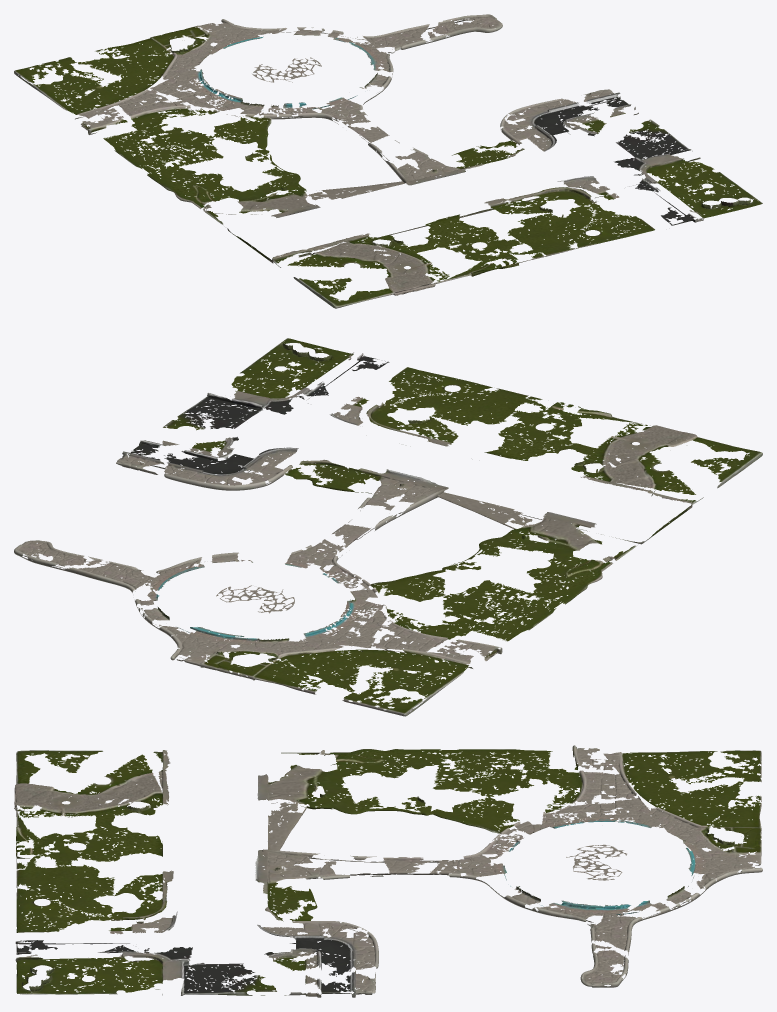
Rendered from plaza-day-ground.glb.
3 views of the same model, one above another, from view 1: azimuth 30°, elevation 25°; view 2: azimuth 150°, elevation 25°; view 3: azimuth 270°, elevation 25° (orthographic). The views are drawn at different scales.
Visible parts, largest first — view 1: tripo_node_c0184c23-2734-491e-80f1-2af3ada3beb5; view 2: tripo_node_c0184c23-2734-491e-80f1-2af3ada3beb5; view 3: tripo_node_c0184c23-2734-491e-80f1-2af3ada3beb5.
Part boxes in pixels (bbox=[...]): tripo_node_c0184c23-2734-491e-80f1-2af3ada3beb5: bbox=[14, 14, 762, 308]; tripo_node_c0184c23-2734-491e-80f1-2af3ada3beb5: bbox=[14, 338, 762, 716]; tripo_node_c0184c23-2734-491e-80f1-2af3ada3beb5: bbox=[14, 745, 762, 997].
Size of the model in its own units: 0.7614 by 0.0139 by 0.9806.
Materials: 1 (1 with a texture image).
